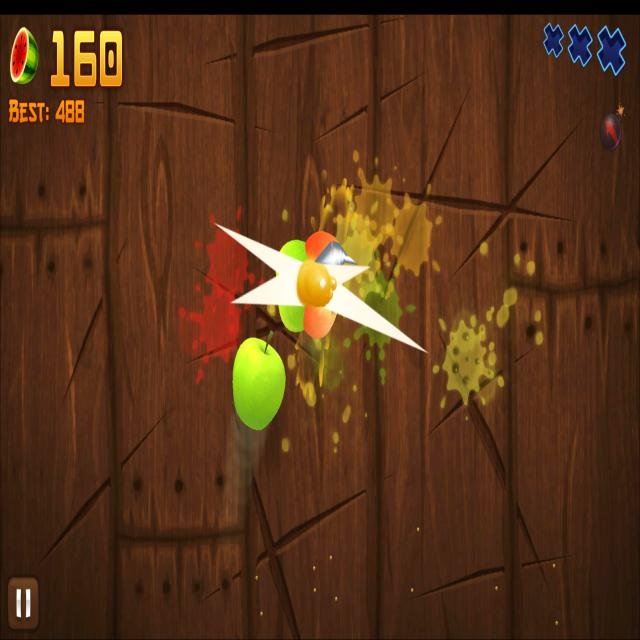fruit: (232, 336, 285, 432)
